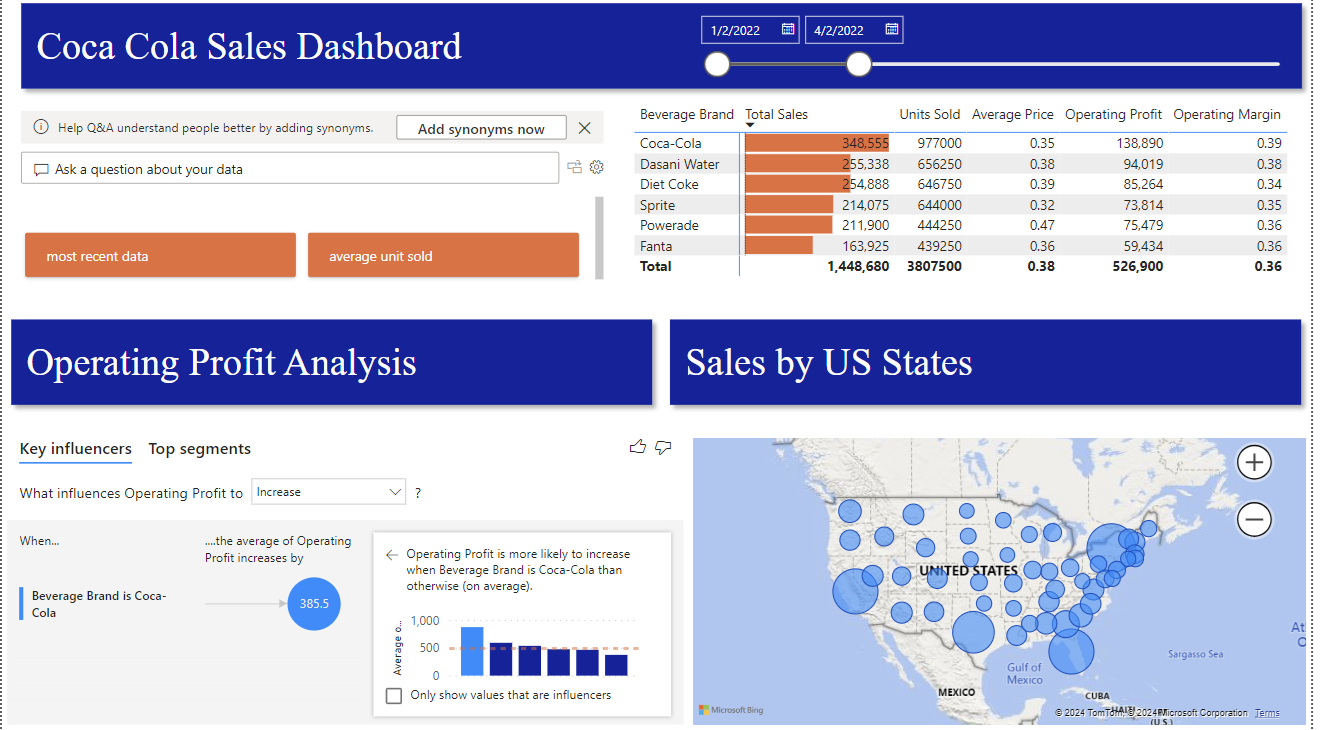

The dashboard page shown, as its layout file describes it:
{"tool":"powerbi","page":{"name":"Page 1","canvas":[1280,720],"ordinal":0},"visuals":[{"type":"shape","box":[9.6,0,1270.4,101.5],"z":0},{"type":"shape","box":[0,308.7,644.8,101.5],"z":1000},{"type":"shape","box":[644.8,308.7,635.2,101.5],"z":2000},{"type":"qnaVisual","box":[9.5,101.9,587,209.3],"z":3000},{"type":"keyDriversVisual","fields":{"Target":["Data.Operating Profit"],"ExplainBy":["Data.Beverage Brand"]},"box":[0,419.9,671.3,300.3],"z":4000},{"type":"map","fields":{"Category":["Data.State"],"Size":["Sum(Data.Total Sales)"]},"box":[671.3,429.4,608.7,290.8],"z":5000},{"type":"pivotTable","fields":{"Rows":["Data.Beverage Brand"],"Values":["Sum(Data.Total Sales)","Sum(Data.Units Sold)","Avg(Data.Price per Unit)","Sum(Data.Operating Profit)","Avg(Data.Operating Margin)"]},"box":[614.2,101.9,665.8,206.5],"z":6000},{"type":"slicer","fields":{"Values":["Data.Invoice Date"]},"box":[671.3,10.9,599.2,77.5],"z":6001}]}

Visuals, with their boxes in screenshot pixels (x1, y1, x2, y2), scaled from the page's 1280x720 canvas onto the 1333x730 screenshot:
shape: rect(10, 0, 1332, 103)
shape: rect(0, 313, 671, 416)
shape: rect(671, 313, 1332, 416)
qnaVisual: rect(10, 103, 621, 316)
keyDriversVisual - Data.Operating Profit x Data.Beverage Brand: rect(0, 426, 699, 729)
map - Data.State x Sum(Data.Total Sales): rect(699, 435, 1332, 729)
pivotTable - Data.Beverage Brand x Sum(Data.Total Sales): rect(640, 103, 1332, 313)
slicer - Data.Invoice Date: rect(699, 11, 1323, 90)
